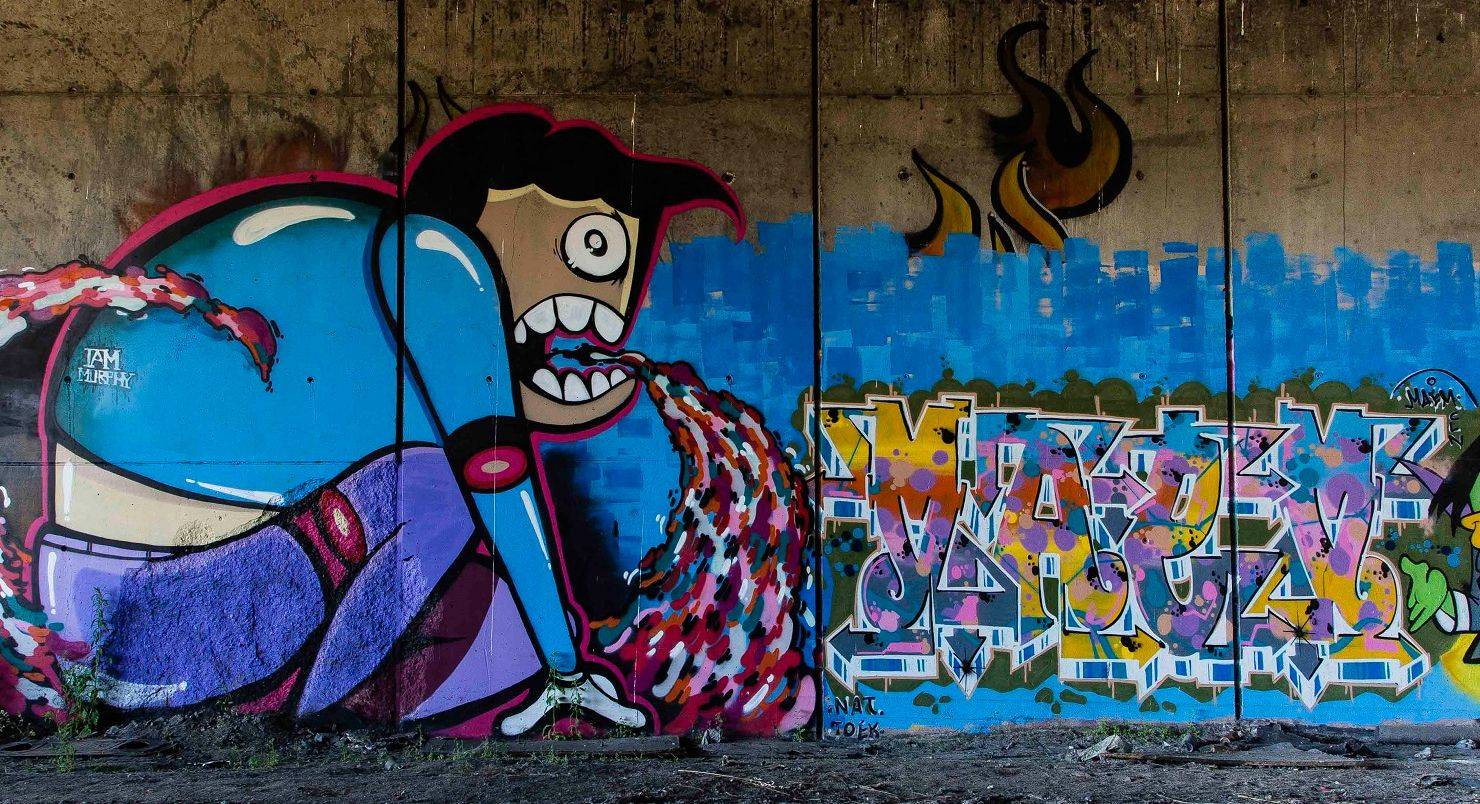graphite: (46, 92, 821, 746), (829, 238, 1480, 725), (898, 35, 1170, 251)
